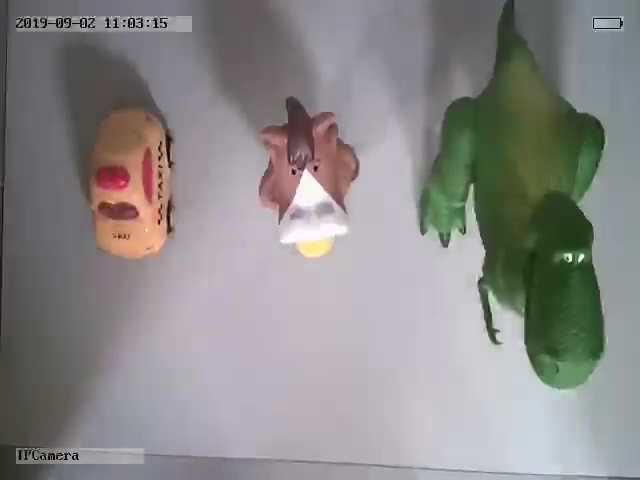car: (87, 105, 177, 260)
horse: (259, 96, 360, 258)
rex: (418, 3, 608, 392)
